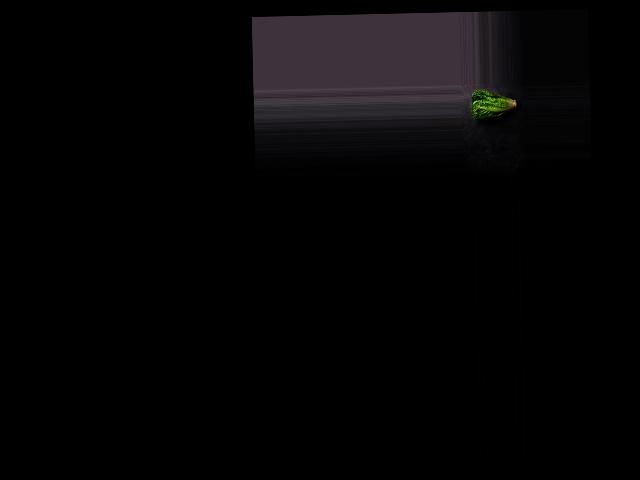lettuce: (470, 88, 520, 121)
